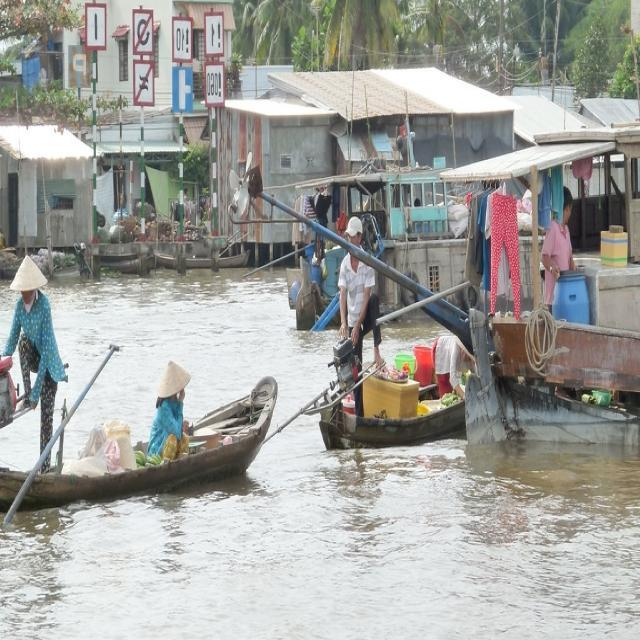boat: (0, 367, 284, 532), (308, 343, 484, 461)
